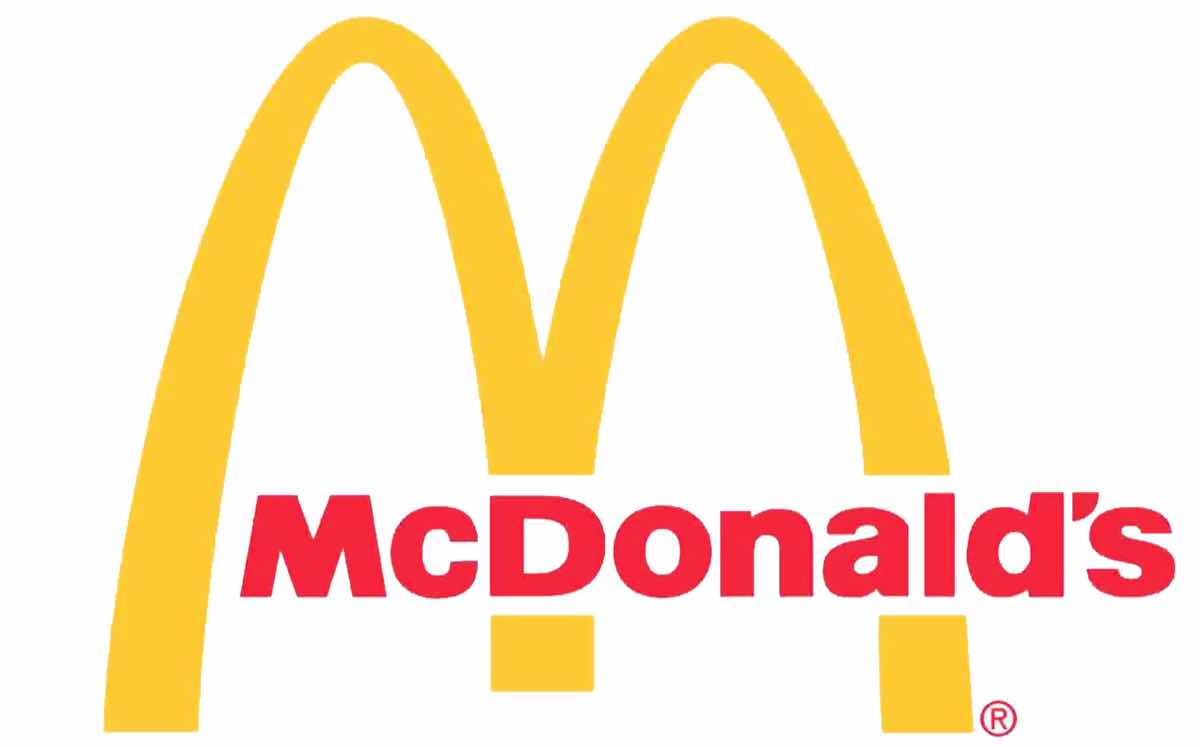mcdonalds: (103, 18, 974, 732)
